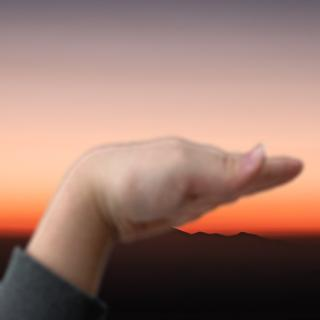Wait: (44, 126, 307, 254)
